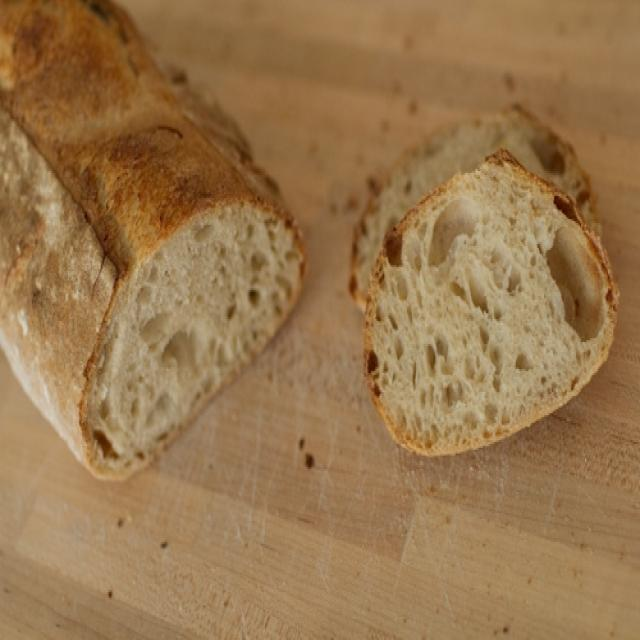面包点心: (1, 2, 627, 634)
